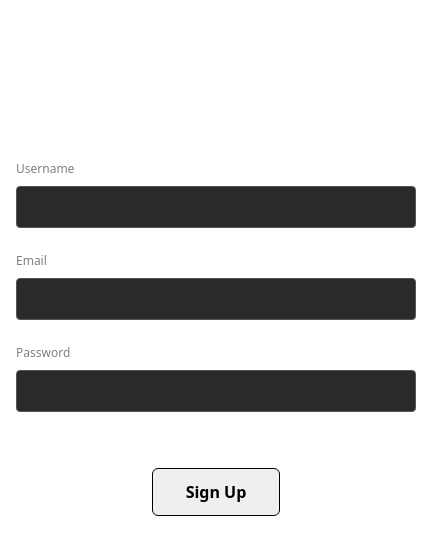
Test: SignupPage › shows error message when email is already in use
Type "existing" into the field labelled "Username" at (216, 207), box [16,186,416,228]
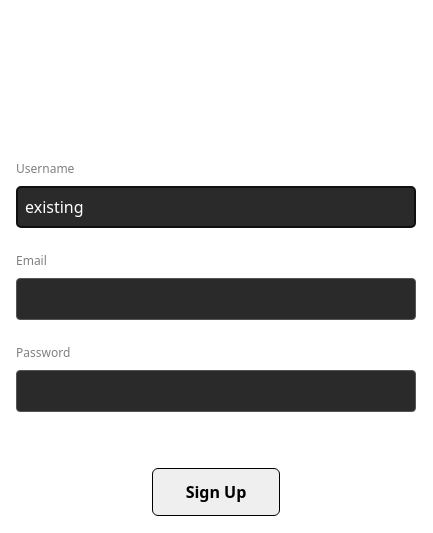
Type "existing@test.com" into the field labelled "Email" at (216, 299), box [16,278,416,320]
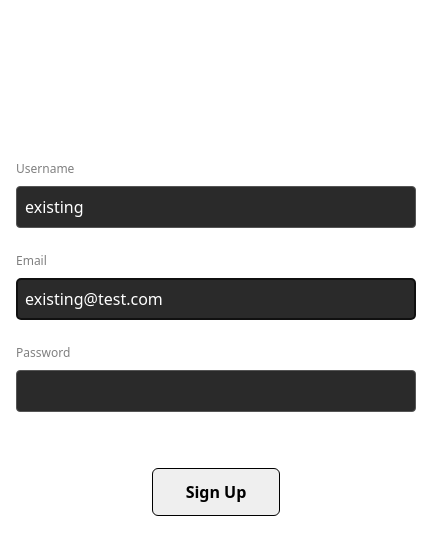
Type "password123" into the password field labelled "Password" at (216, 391), box [16,370,416,412]
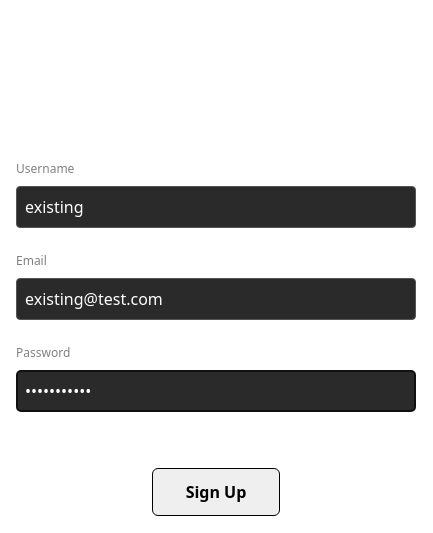
Click the button "Sign Up" at (216, 492), box [152,468,280,516]
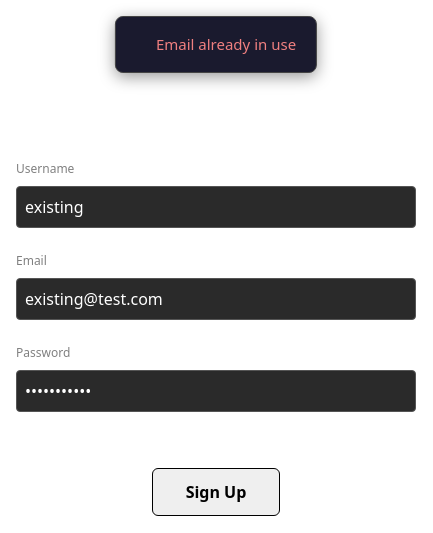
expect the list item "Email already in use" is shown: met, box [156,33,296,56]
